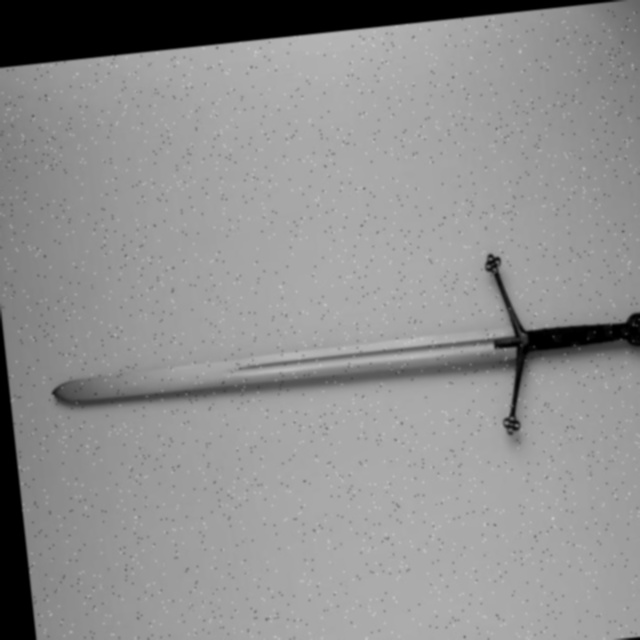Sharp-Object: (40, 301, 640, 433)
